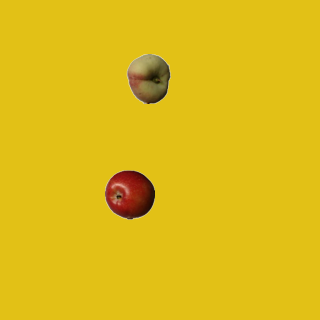Apple Braeburn: (104, 169, 154, 219)
Peach Flat: (123, 53, 173, 103)
